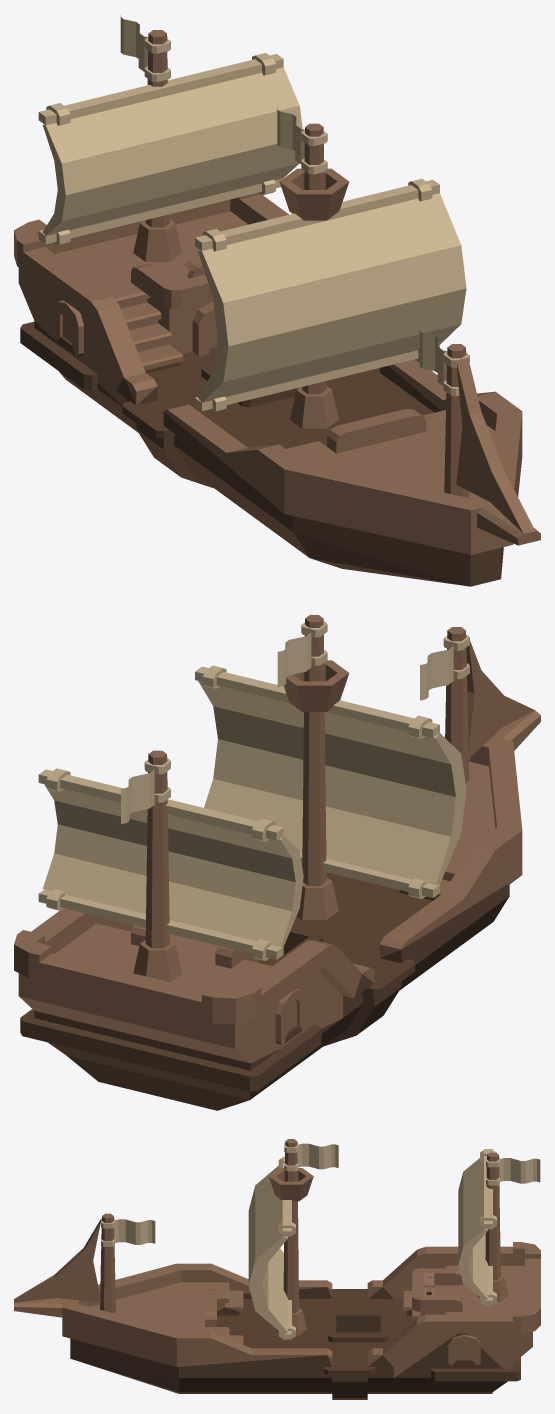
File: flagship.glb
3 views of the same model, one above another, from view 1: azimuth 30°, elevation 25°; view 2: azimuth 150°, elevation 25°; view 3: azimuth 270°, elevation 25° (orthographic). The views are drawn at different scales.
Visible parts, largest first — view 1: Sail_Canvas, Mast_Trim, Hull_Main; view 2: Sail_Canvas, Mast_Trim, Hull_Main; view 3: Mast_Trim, Hull_Main, Sail_Canvas.
Boxes of the visible parts, x1,y1,x2,y2 form: Sail_Canvas: (38, 15, 469, 412); Mast_Trim: (14, 30, 540, 554); Hull_Main: (20, 321, 503, 586); Sail_Canvas: (38, 621, 469, 960); Mast_Trim: (14, 615, 540, 1063); Hull_Main: (20, 872, 520, 1110); Mast_Trim: (14, 1139, 540, 1377); Hull_Main: (70, 1287, 520, 1399); Sail_Canvas: (101, 1143, 540, 1339).
Size of what is drawn, in the model's own units: 6.74 by 9.2 by 18.4.
